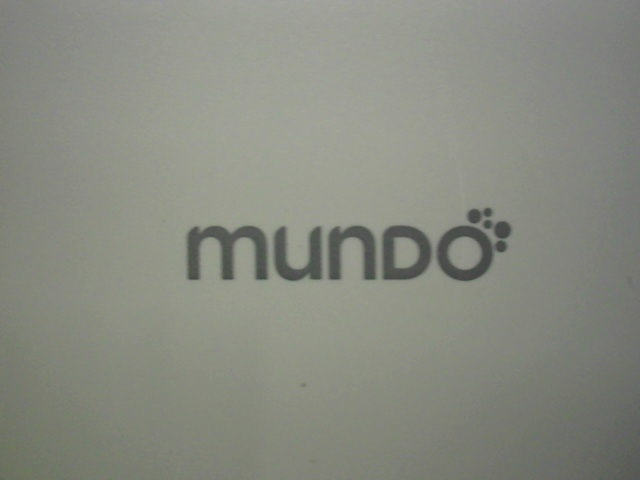BI_MUNDO: (173, 191, 517, 292)
